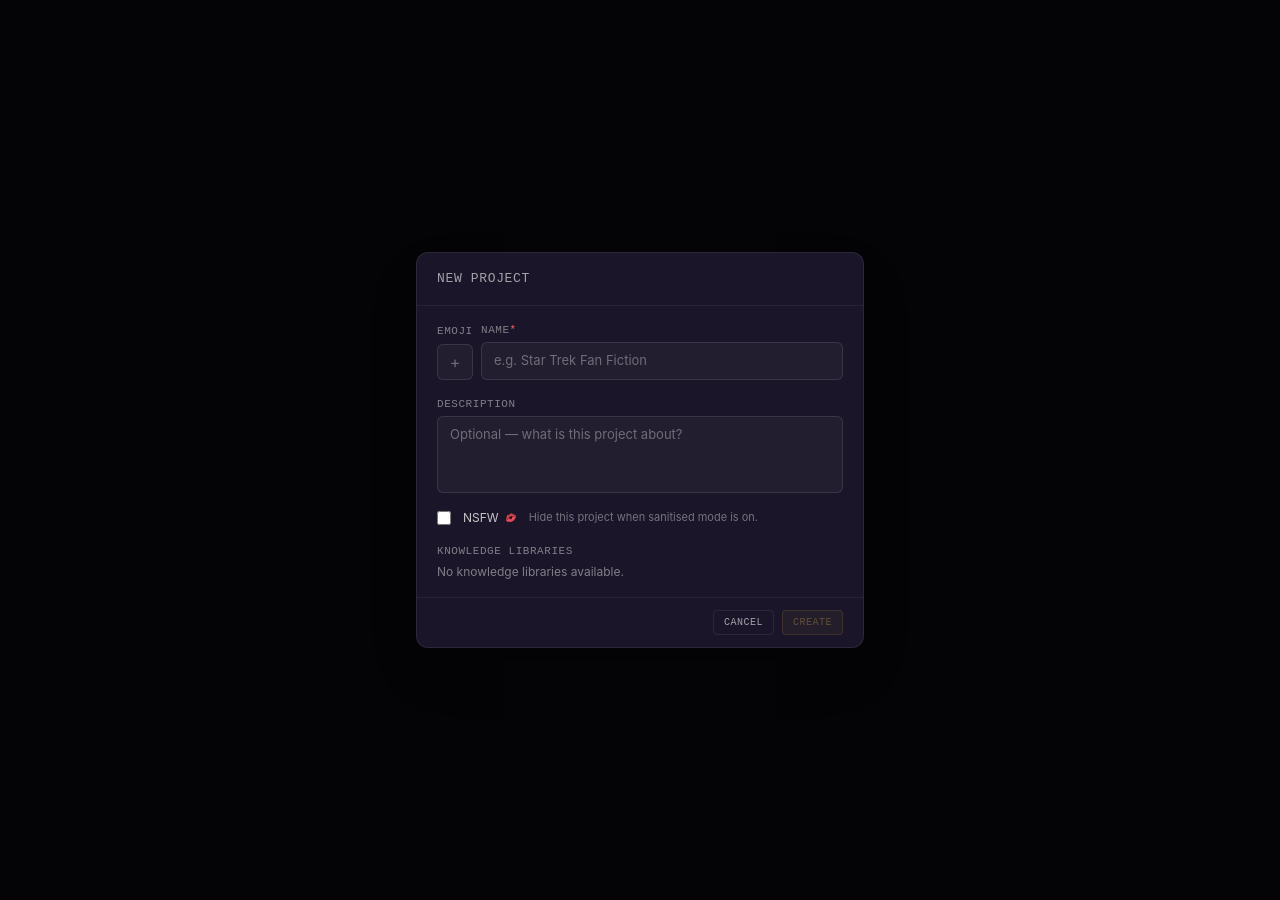
ProjectCreateModal — validation › disables Create until a non-empty name is entered
Expected: the button "Create" is disabled, [782,610,843,635]
Step 1. Type "My Project" into the field labelled "Name*" → x=662, y=361, box [481,342,843,380]
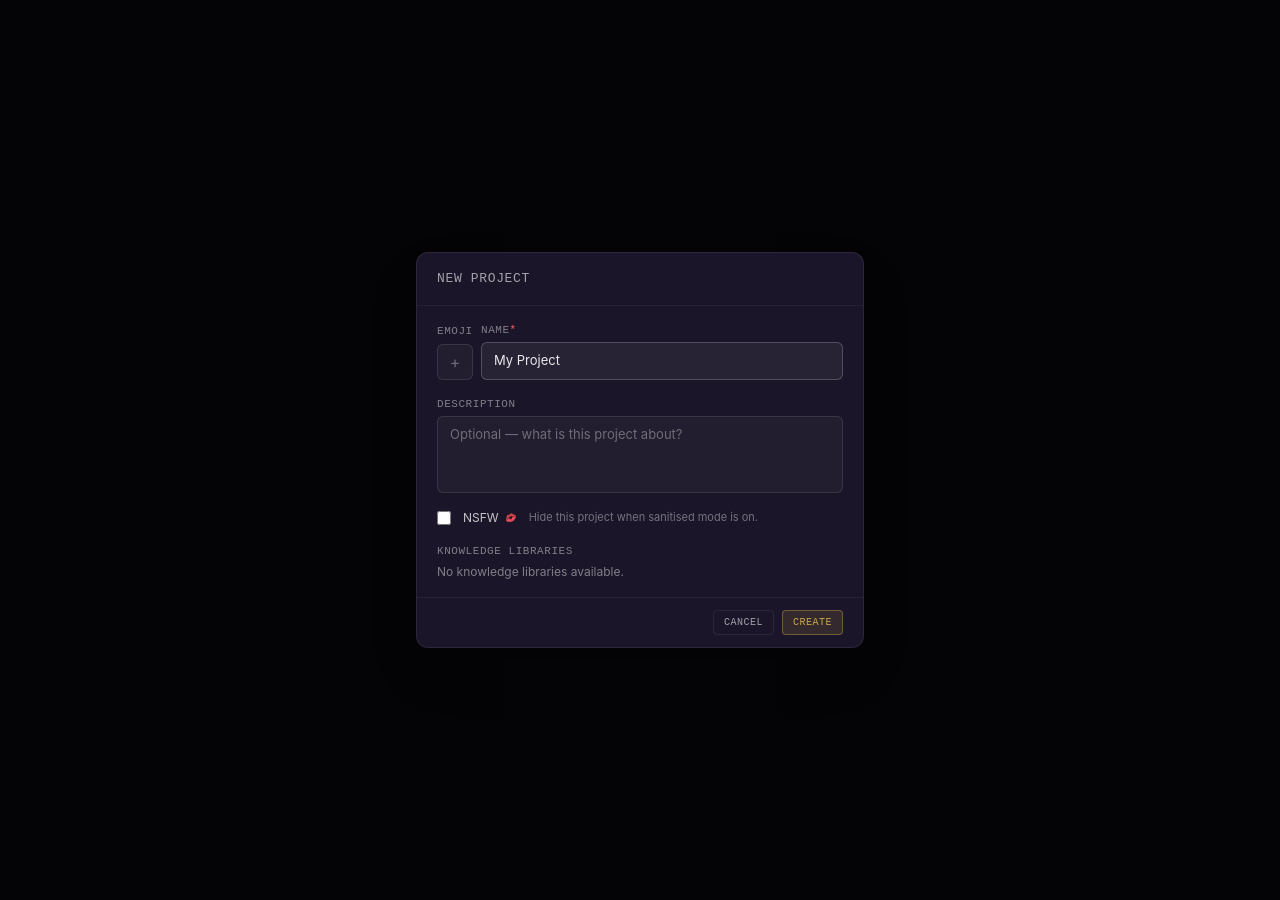
Now the button "Create" is enabled, box [782,610,843,635]
